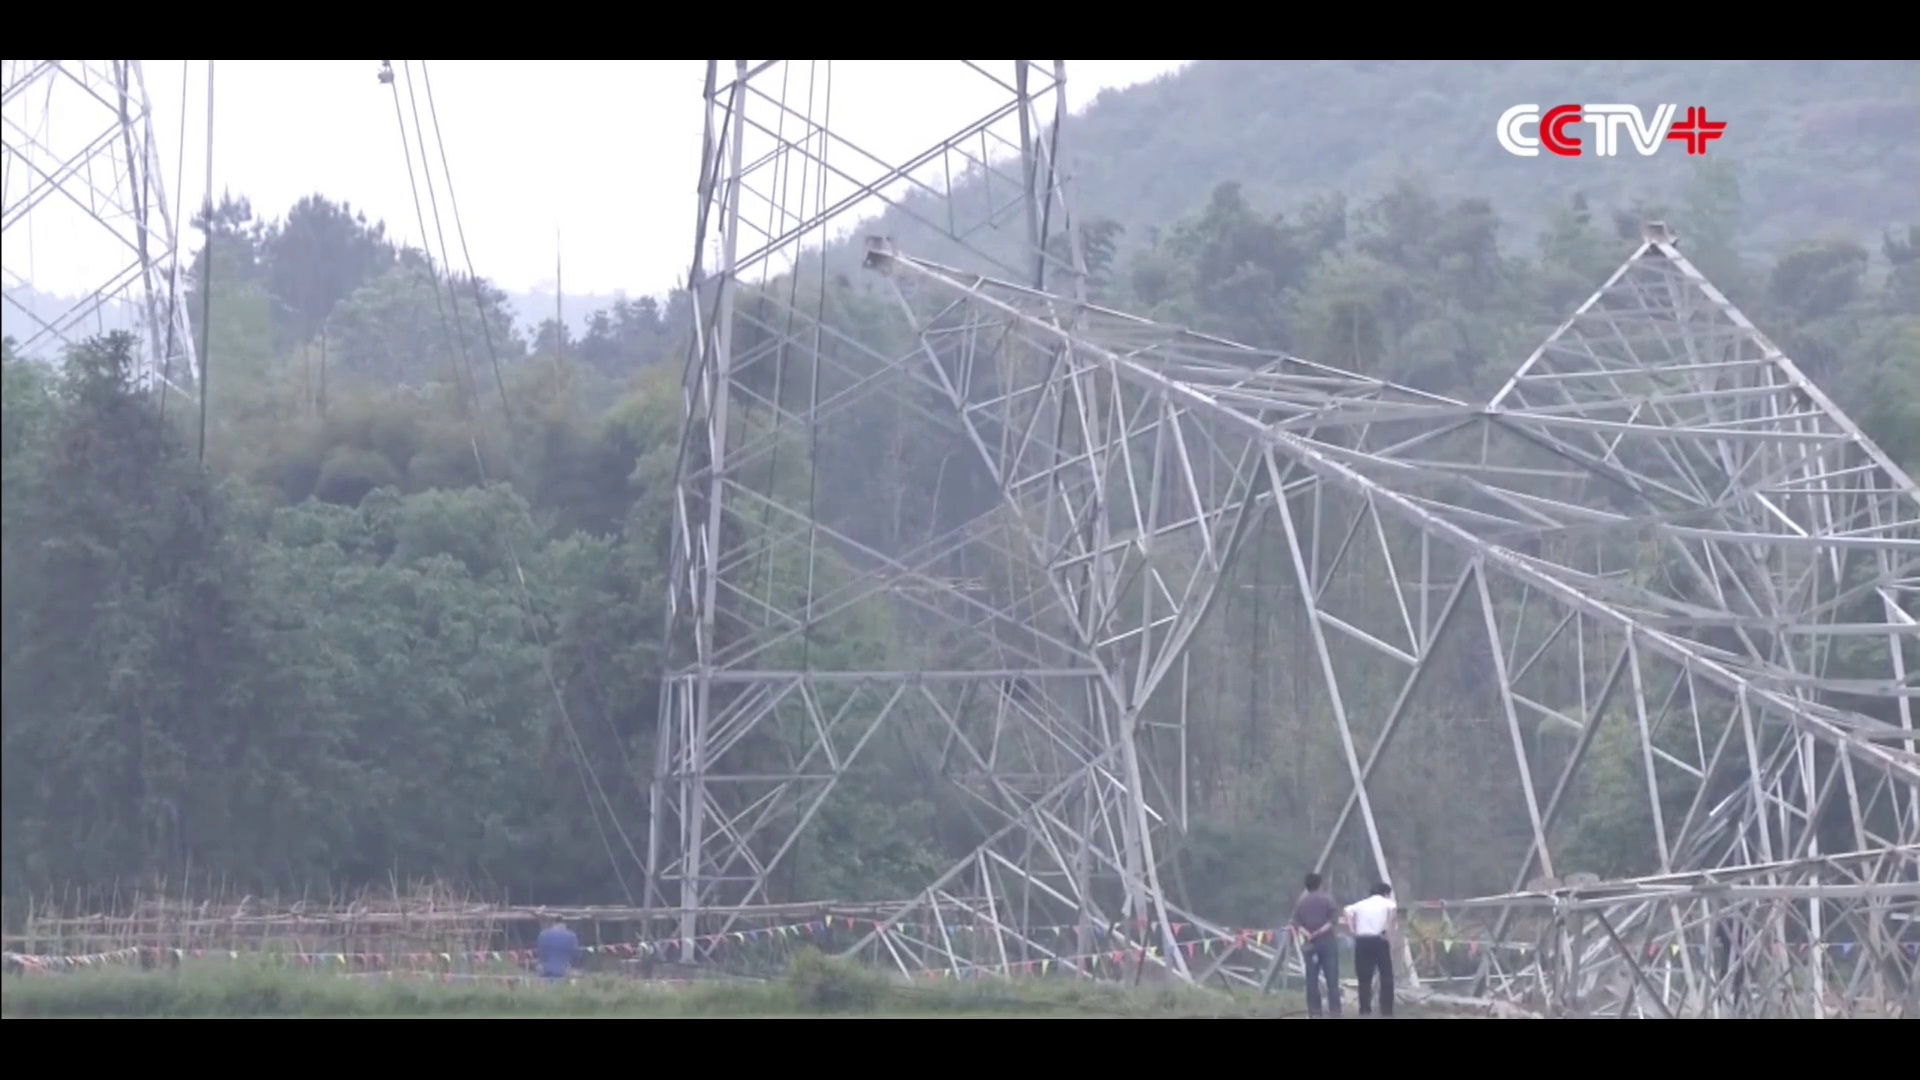tower_down: (861, 235, 1920, 1009)
